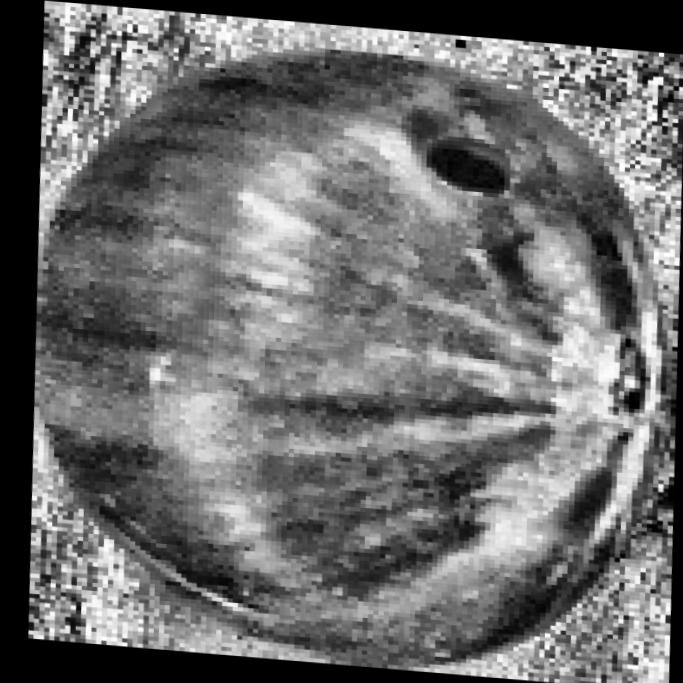damagedHazelnut: (0, 4, 683, 683)
